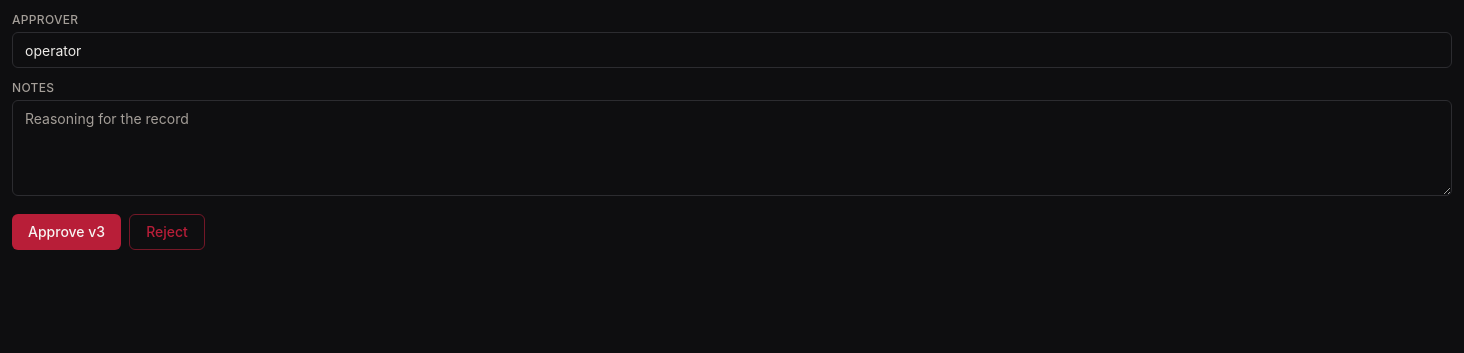
ReviewDecisionPanel › displays backend eligibility errors verbatim
Click the button "Approve v3" at (67, 232), box [12, 214, 121, 250]
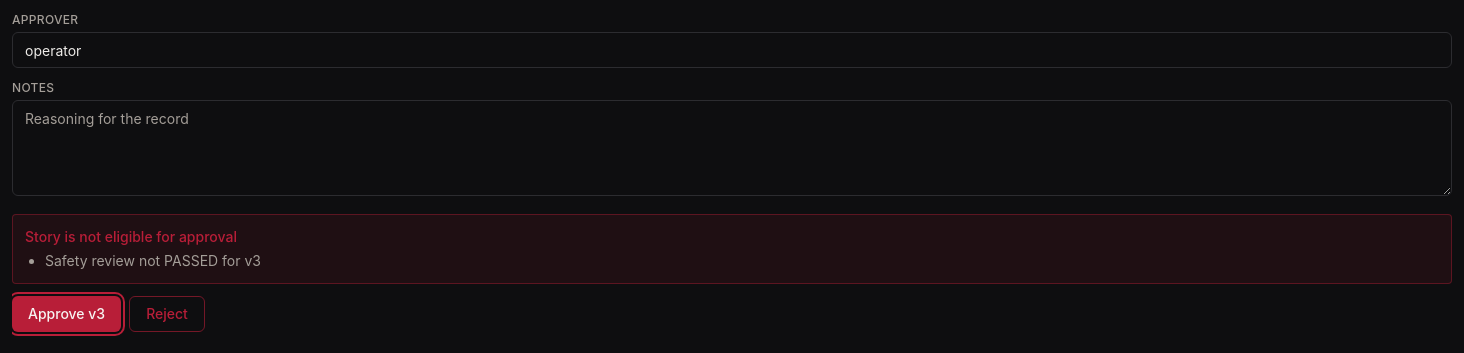
Expected: the button "Approve v3" is enabled, [12, 296, 121, 332]
Result: the message shows "Story is not eligible for approval" at [25, 228, 237, 245]
Result: the message shows "Safety review not PASSED for v3" at [45, 252, 261, 269]
